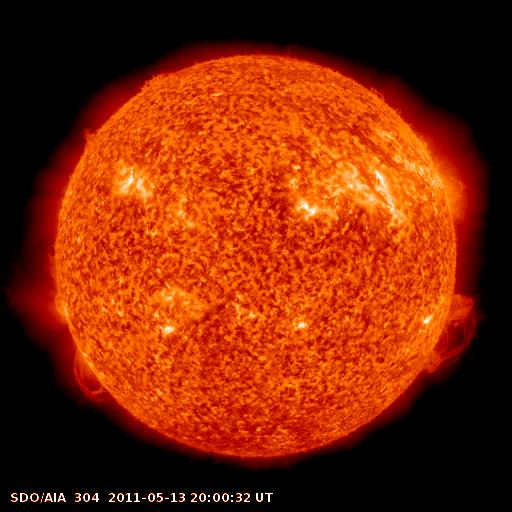prominence: (415, 291, 488, 383), (36, 241, 75, 329), (62, 344, 115, 406), (132, 66, 183, 99), (75, 115, 103, 152), (361, 79, 391, 108)
